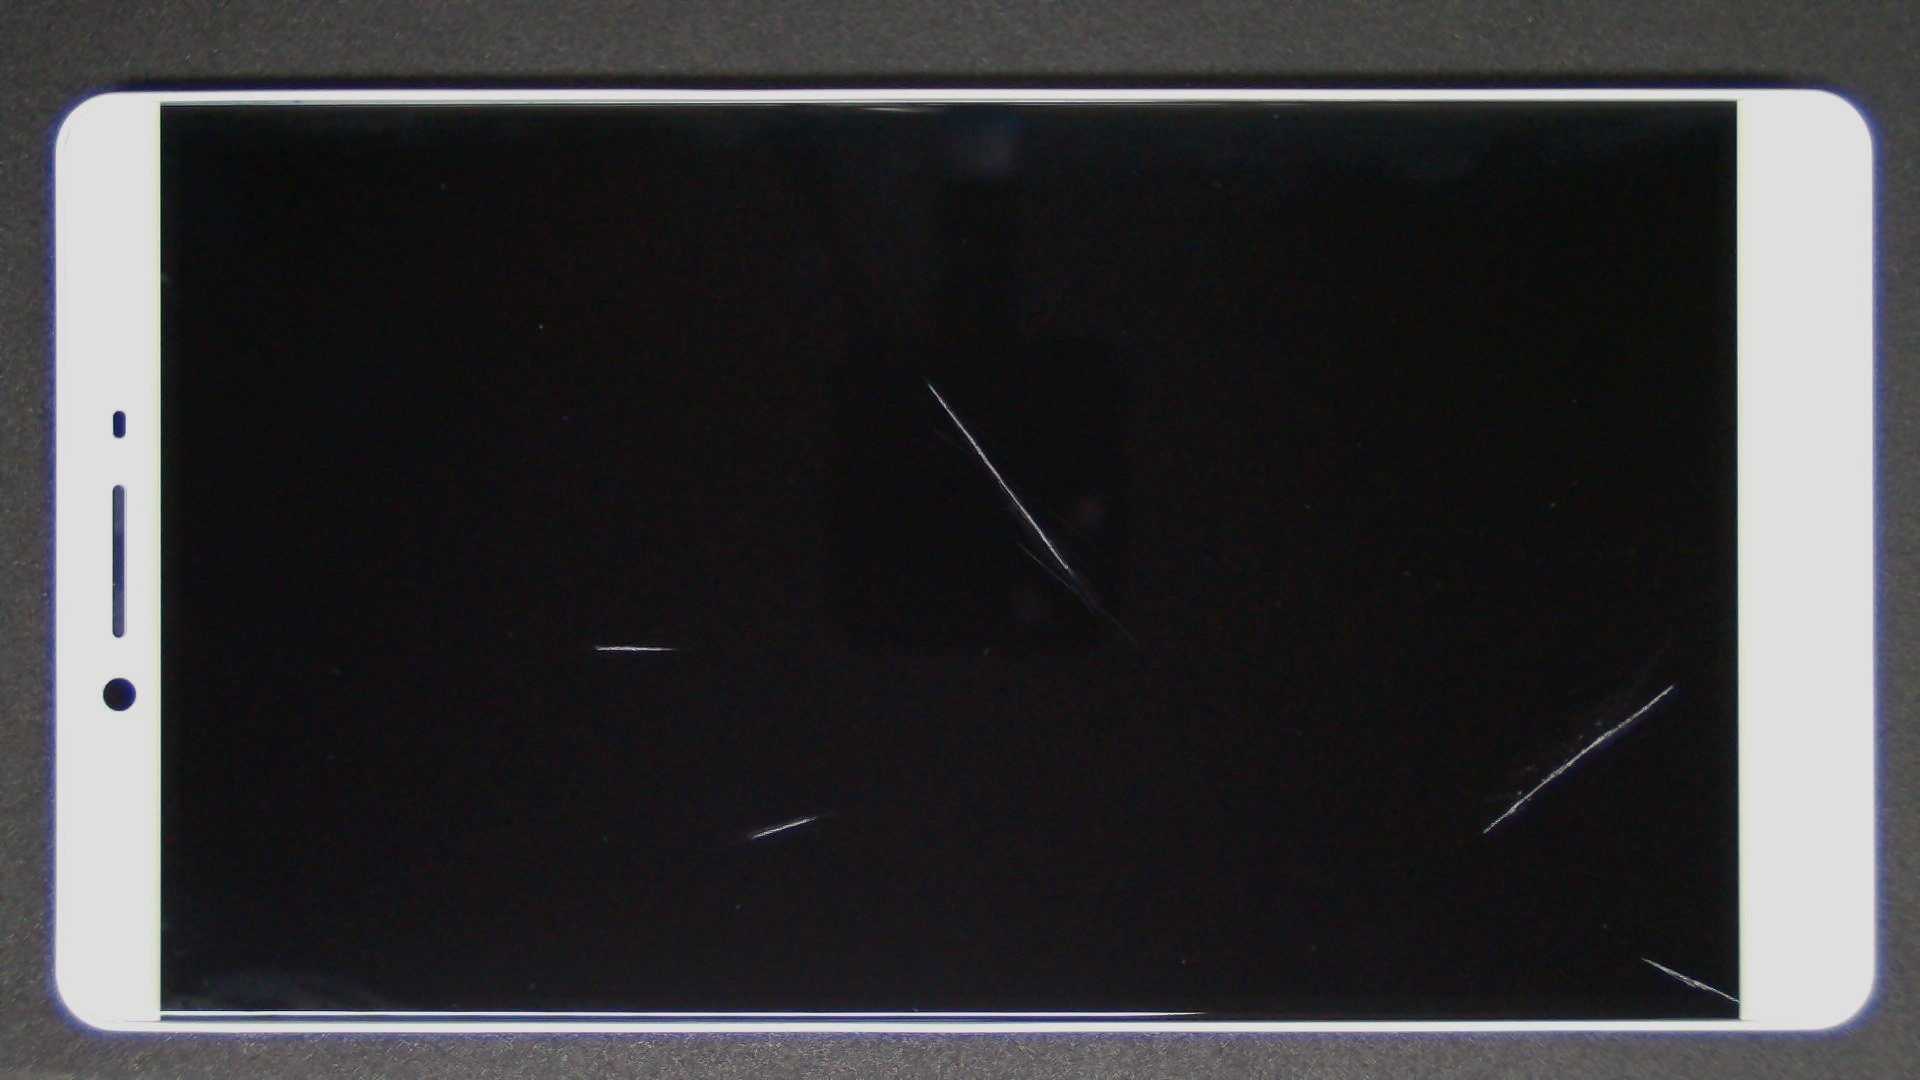oil: (836, 342, 1920, 1026), (822, 477, 1920, 1080), (402, 407, 1205, 1080), (298, 322, 893, 968), (462, 189, 1385, 568)
